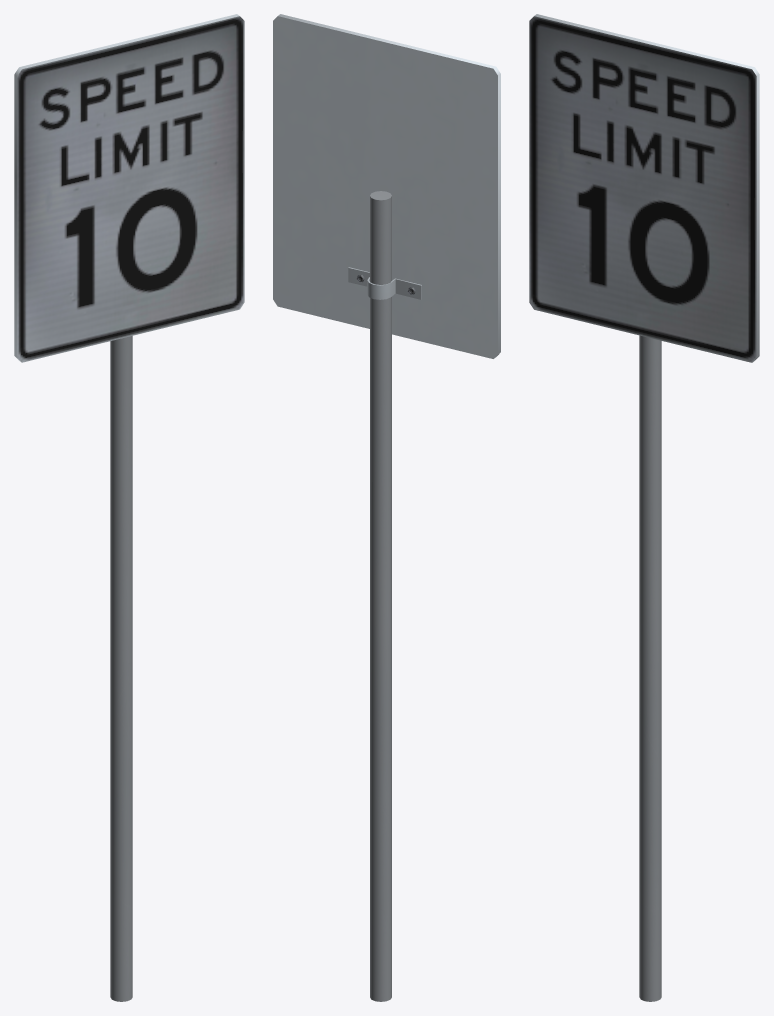
The model's file is StreetSigns_20.fbx.
3 renders of one model, left to right at view 1: azimuth 30°, elevation 25°; view 2: azimuth 150°, elevation 25°; view 3: azimuth 330°, elevation 25°, orthographic.
Parts seen in each view (by area): view 1: StreetSigns_20; view 2: StreetSigns_20; view 3: StreetSigns_20.
Part boxes in pixels (<box>): StreetSigns_20: <box>14,14,244,1001</box>; StreetSigns_20: <box>273,14,500,1001</box>; StreetSigns_20: <box>529,14,759,1001</box>.
Size of the model in its own units: 1.18 by 4.74 by 0.133.
